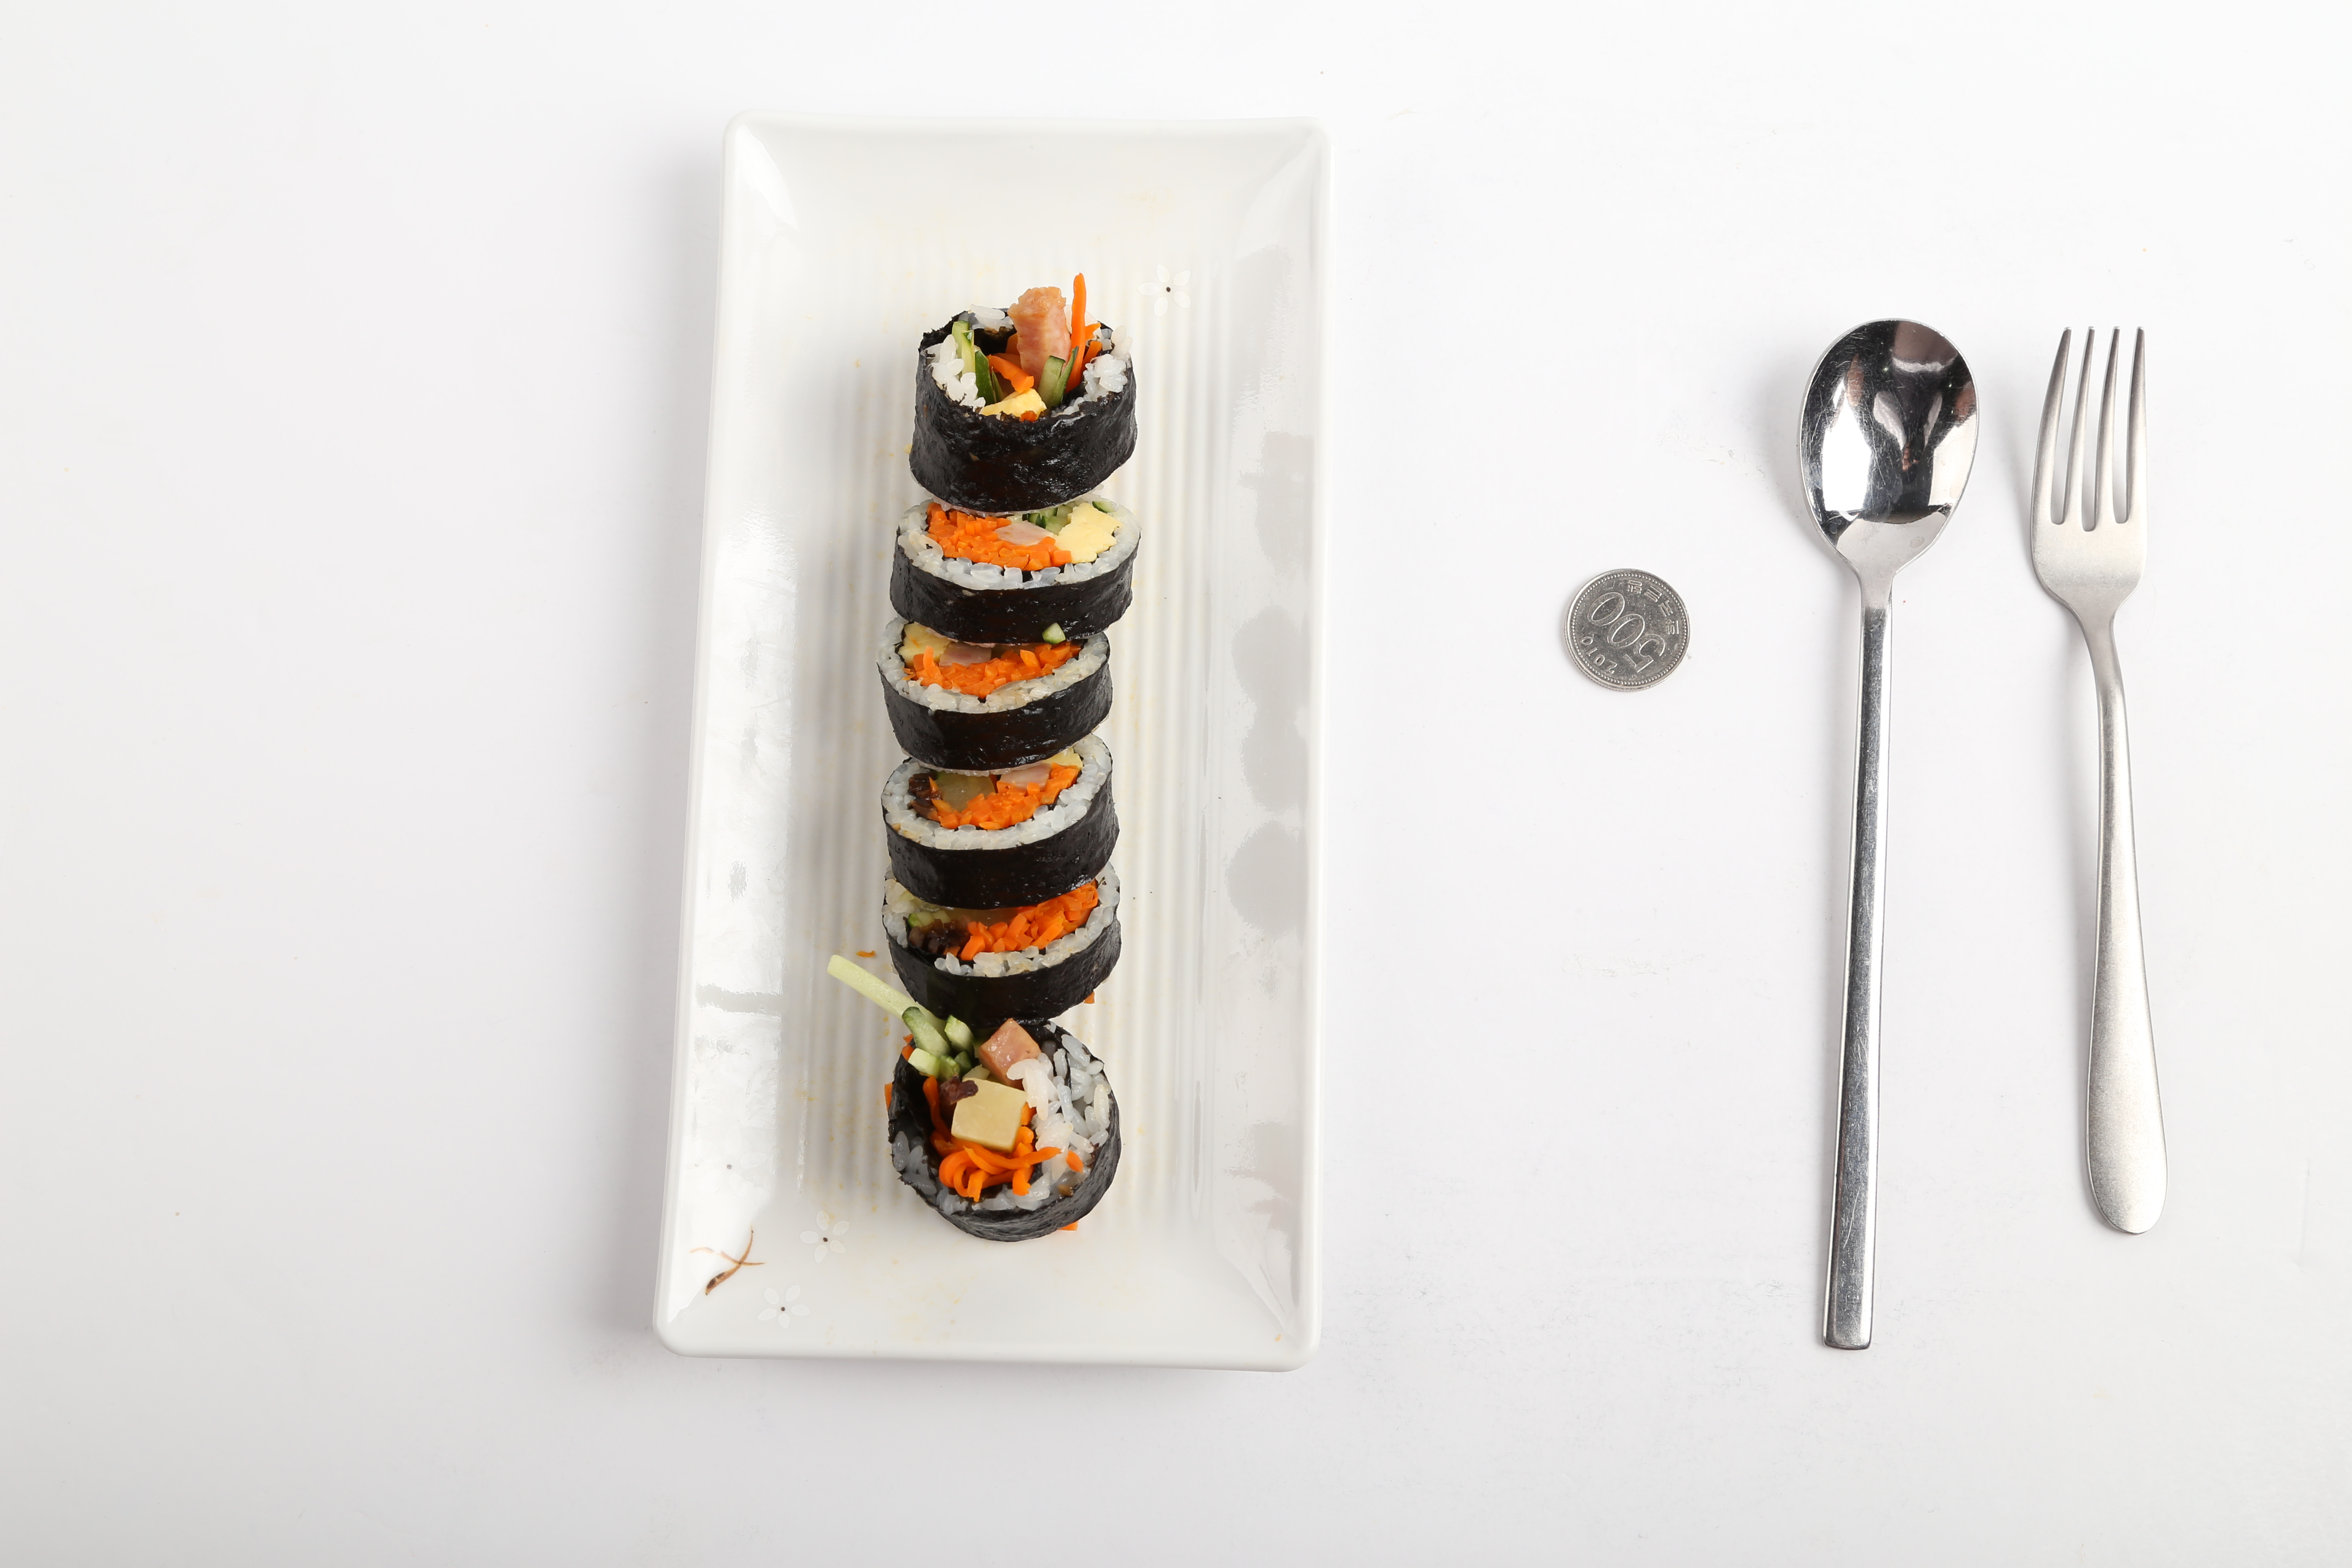dish: (639, 100, 1333, 1367)
ref_coin: (1561, 563, 1692, 698)
ref_fork: (2028, 318, 2156, 661)
ref_spoon: (1790, 315, 1981, 621)
김밥: (884, 283, 1134, 1244)
